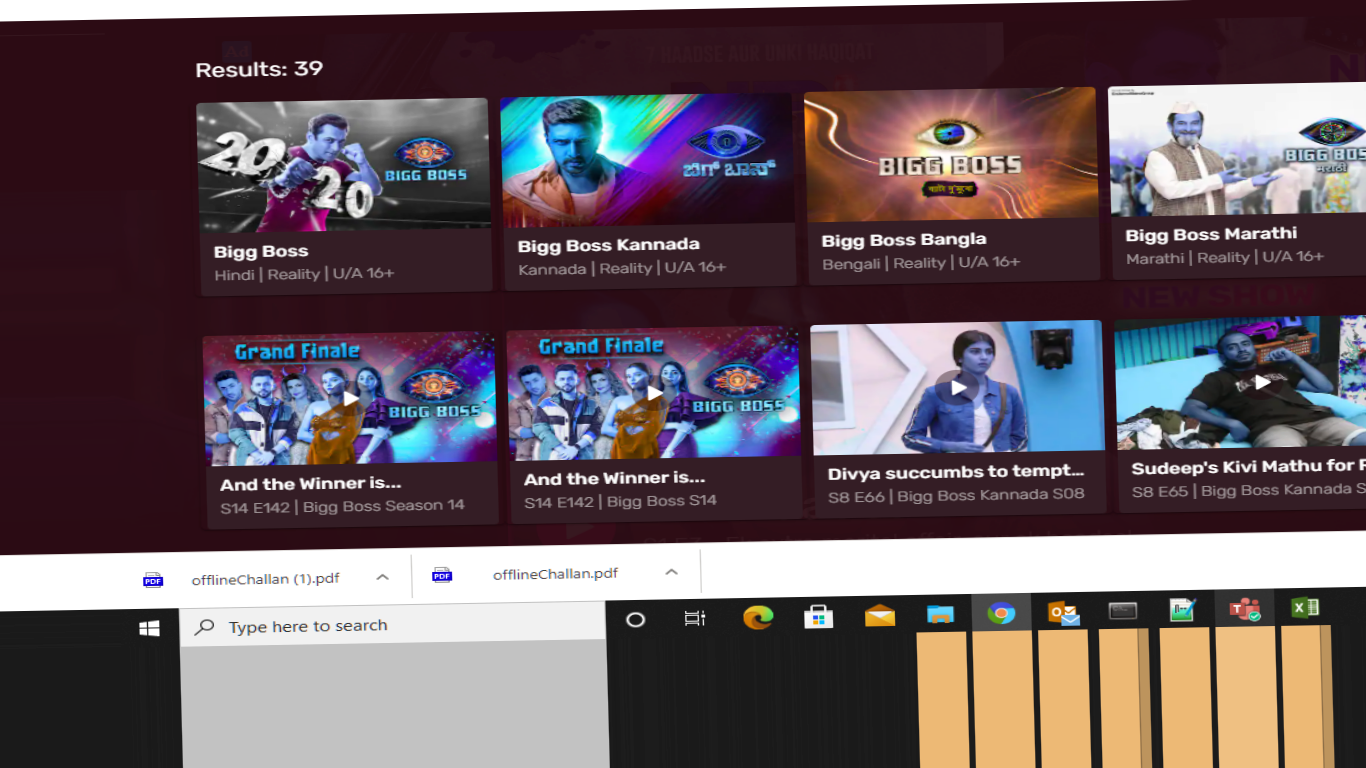resultsfound: (178, 41, 435, 97)
